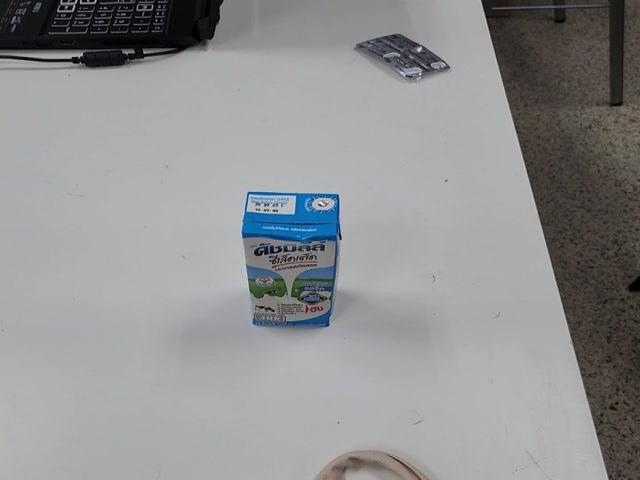drink_box: (232, 178, 352, 336)
